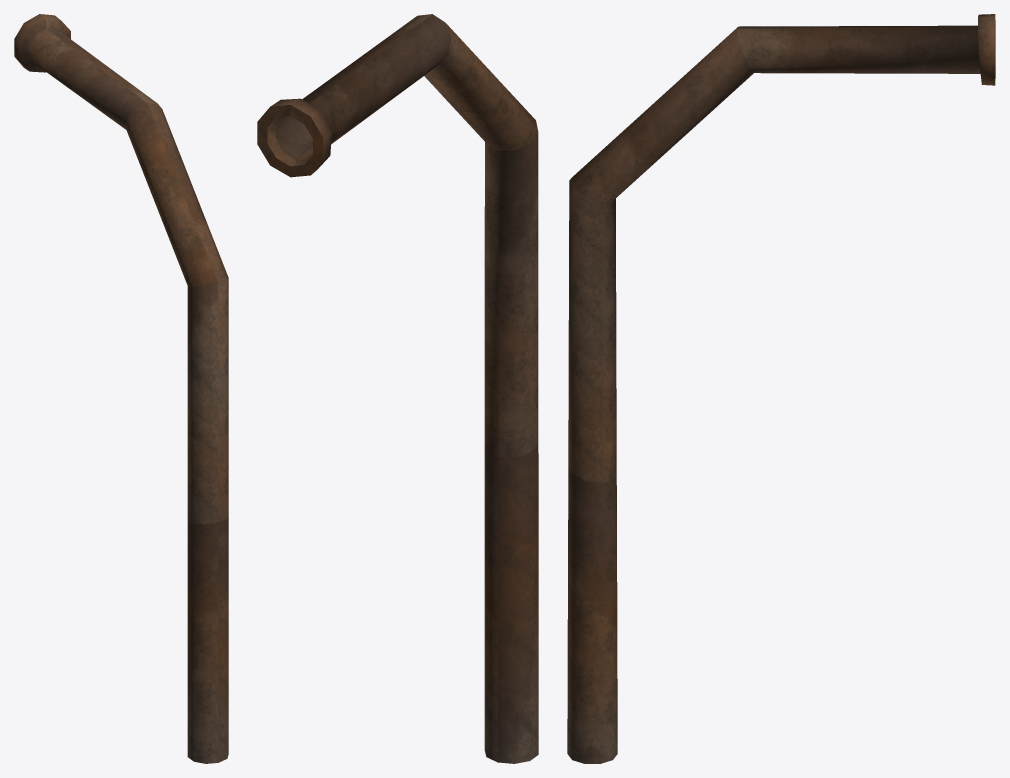
Rendered from Pipe2.fbx.
3 views of the same model, side by side, from view 1: azimuth 30°, elevation 25°; view 2: azimuth 150°, elevation 25°; view 3: azimuth 270°, elevation 25° (orthographic). The views are drawn at different scales.
Parts seen in each view (by area): view 1: Vert.014; view 2: Vert.014; view 3: Vert.014.
Boxes of the visible parts, left/top/right/bottom form: Vert.014: left=14, top=14, right=228, bottom=763; Vert.014: left=257, top=14, right=538, bottom=763; Vert.014: left=567, top=14, right=995, bottom=763.
Size of the model in its own units: 120 by 1388 by 731.
1 material, 1 textured.
